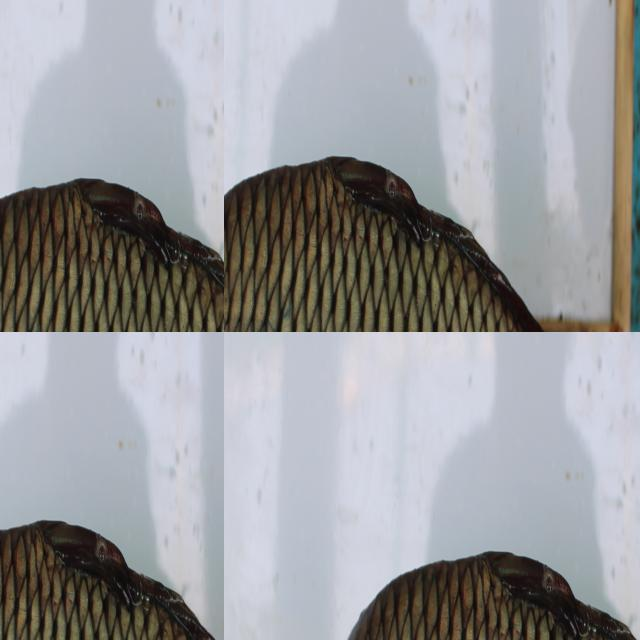fish: (0, 0, 224, 332), (244, 516, 640, 640)
